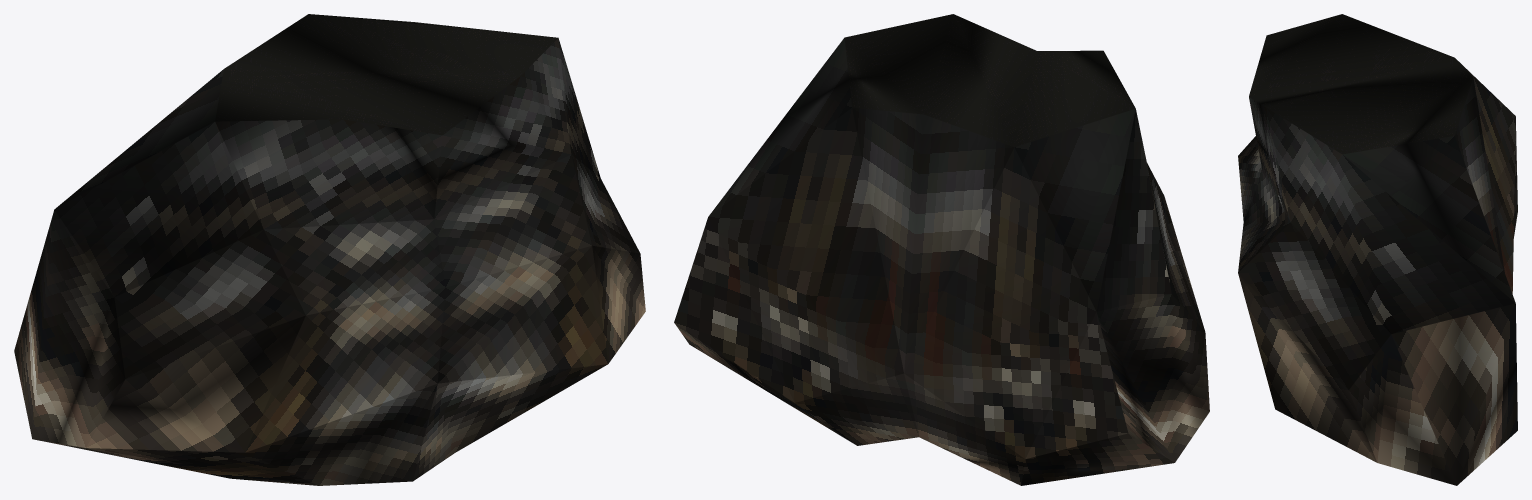
File: ArmorM.obj
3 renders of one model, left to right at view 1: azimuth 30°, elevation 25°; view 2: azimuth 150°, elevation 25°; view 3: azimuth 270°, elevation 25°, orthographic. The views are drawn at different scales.
Visible parts, largest first — view 1: Group7; view 2: Group7; view 3: Group7.
Part boxes in pixels (<box>): Group7: <box>14,14,645,485</box>; Group7: <box>674,14,1209,485</box>; Group7: <box>1238,14,1517,485</box>.
Bounding box in the file's own units: 44.8 × 32.48 × 22.65.
Materials: 1 (1 with a texture image).
